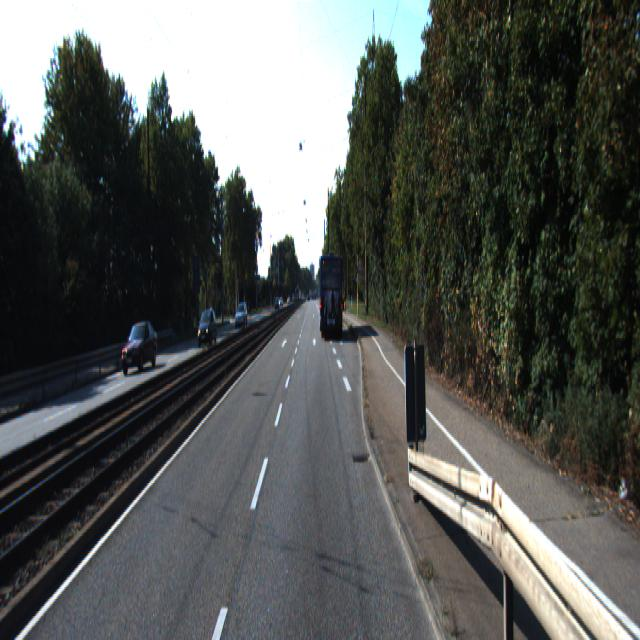Car: (120, 324, 160, 377), (320, 256, 344, 343), (197, 310, 217, 349)
